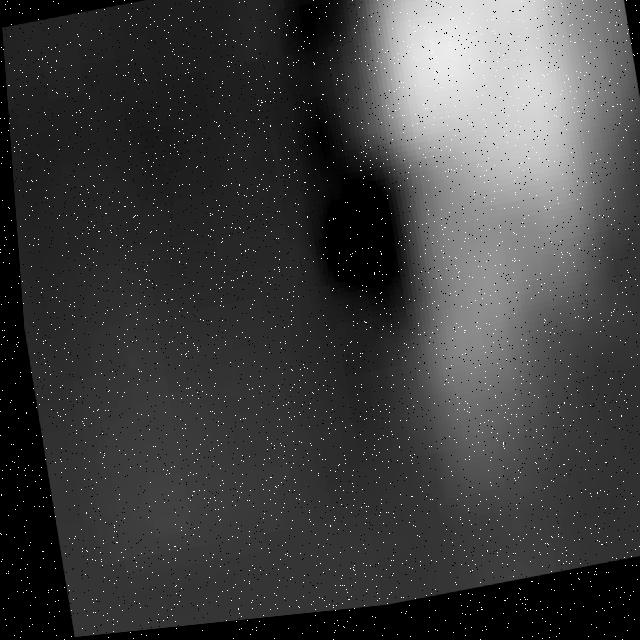person: (323, 1, 640, 500)
